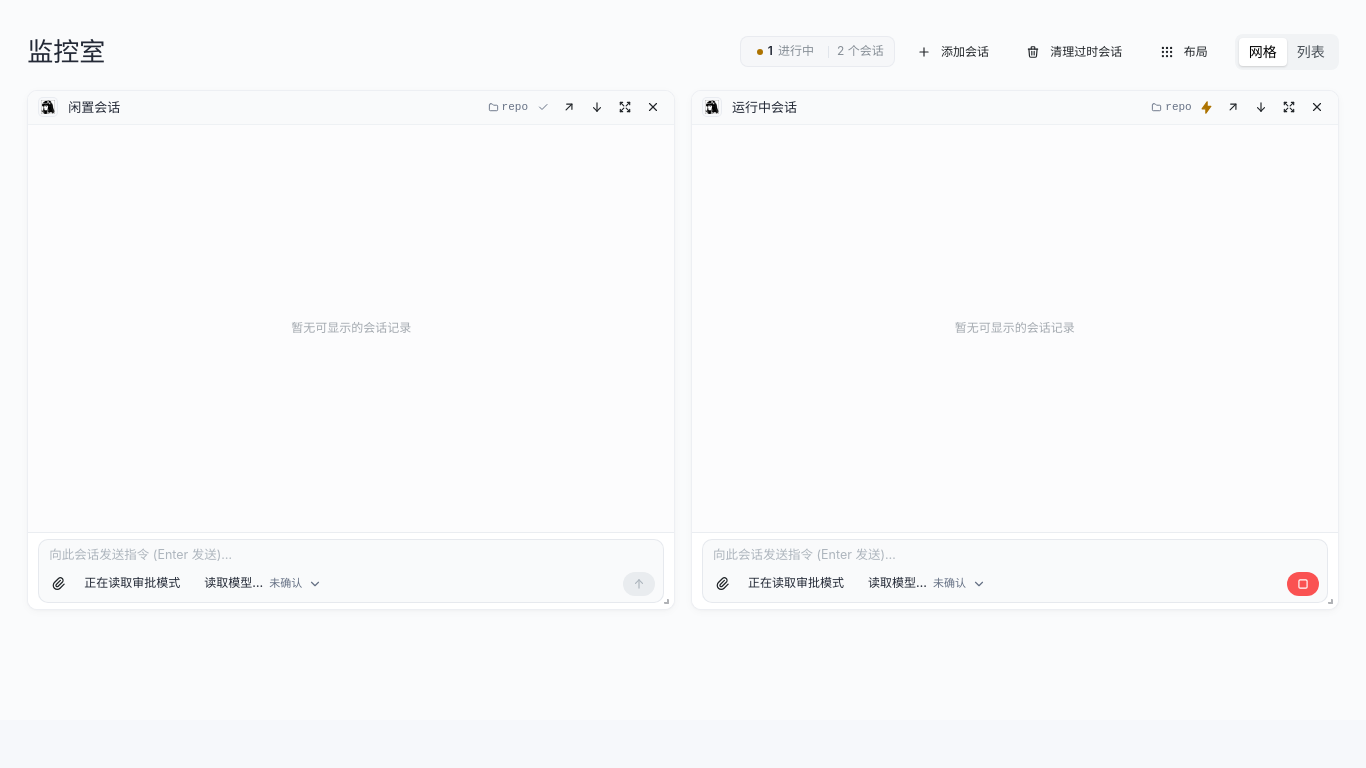
MonitorPage › cleans only inactive automatically added sessions without messages for 30 minutes
The image size is (1366, 768).
Check: the element with test id "monitor-card-agent-1-session-2" is shown, box [27,90,675,610]
Click the button "清理过时会话": [1077, 52] box [1016,37,1137,67]
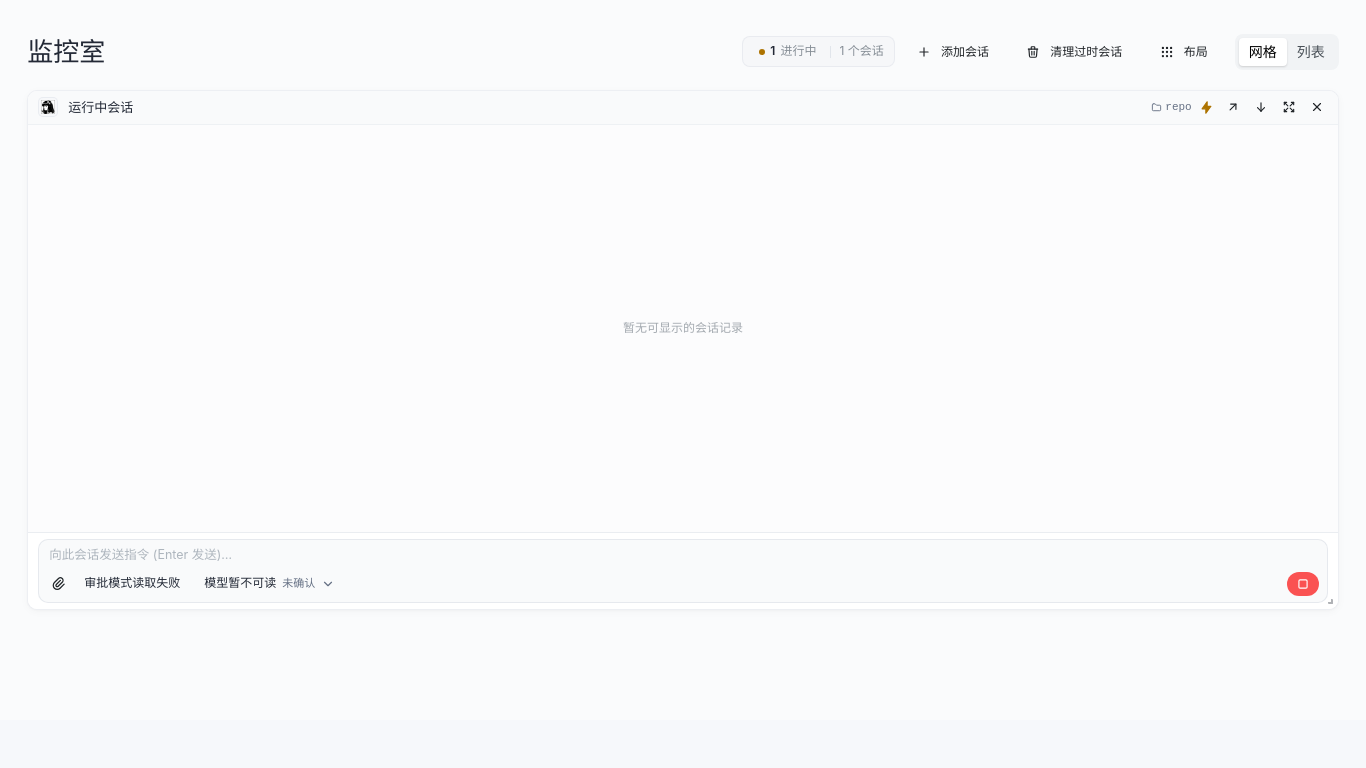
Check: the element with test id "monitor-card-agent-1-session-2" is gone
